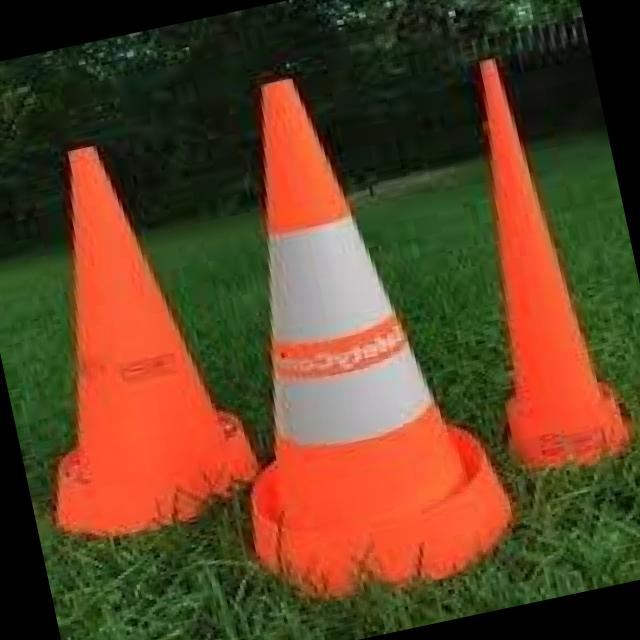Cono de seguridad: (158, 50, 520, 626), (0, 126, 266, 550), (436, 48, 612, 469)
